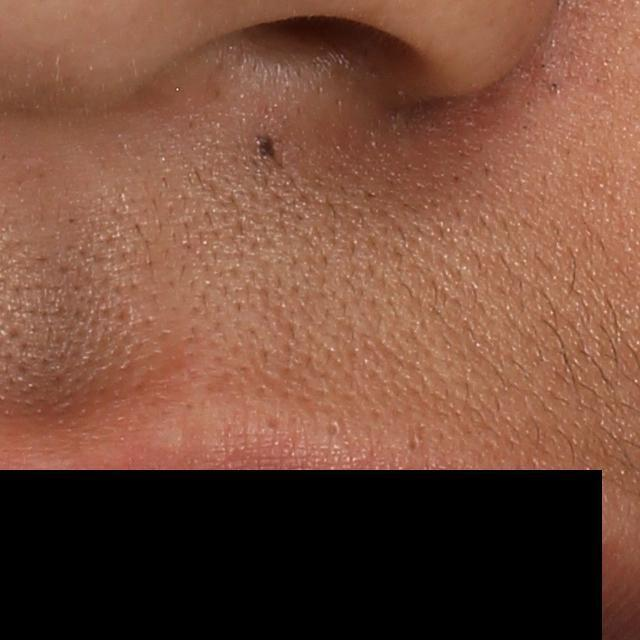comedo: (321, 416, 344, 439)
nevus: (251, 136, 276, 164)
